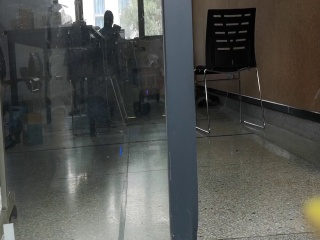room: (5, 3, 281, 233)
